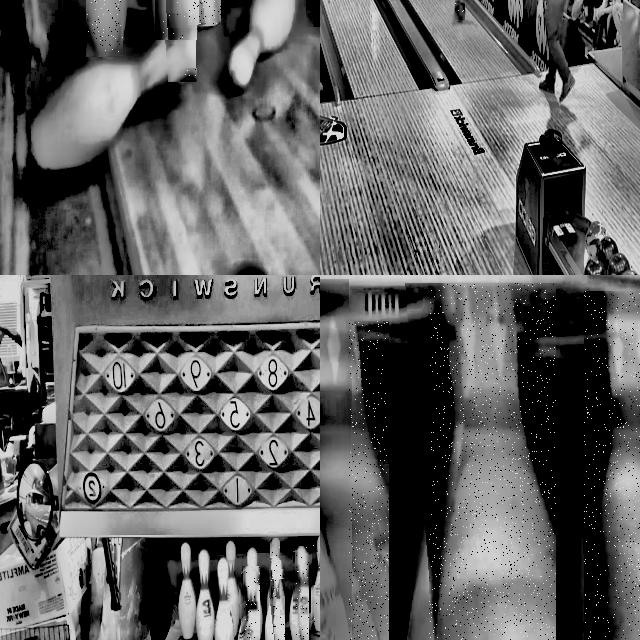bowling-ball: (455, 0, 464, 18)
bowling-pins: (429, 283, 556, 640), (320, 322, 388, 640), (584, 291, 640, 640), (87, 0, 122, 54), (178, 541, 196, 640), (214, 557, 234, 640), (196, 549, 214, 640), (246, 547, 262, 640), (161, 0, 196, 40), (226, 540, 240, 635), (270, 557, 285, 640), (296, 546, 308, 640), (244, 567, 259, 640), (313, 537, 320, 632), (279, 581, 285, 614), (182, 68, 197, 81), (271, 539, 279, 558)
